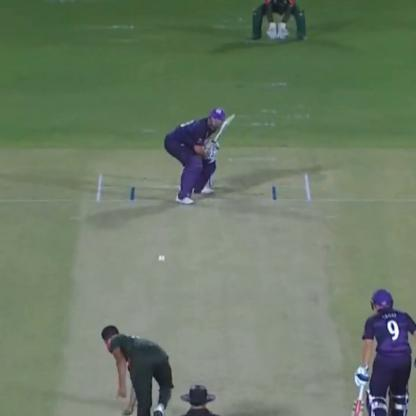ball: (153, 250, 168, 266)
bat: (210, 110, 238, 154), (346, 375, 368, 415)
pitch: (64, 177, 349, 416)
